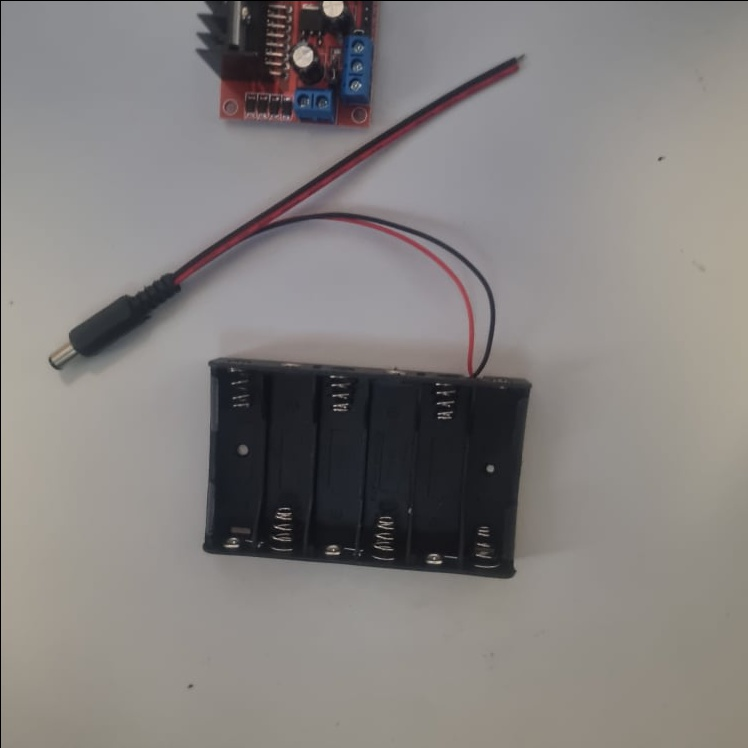BATTERY BOX: (202, 359, 533, 579)
MOTOR: (193, 0, 375, 131)
